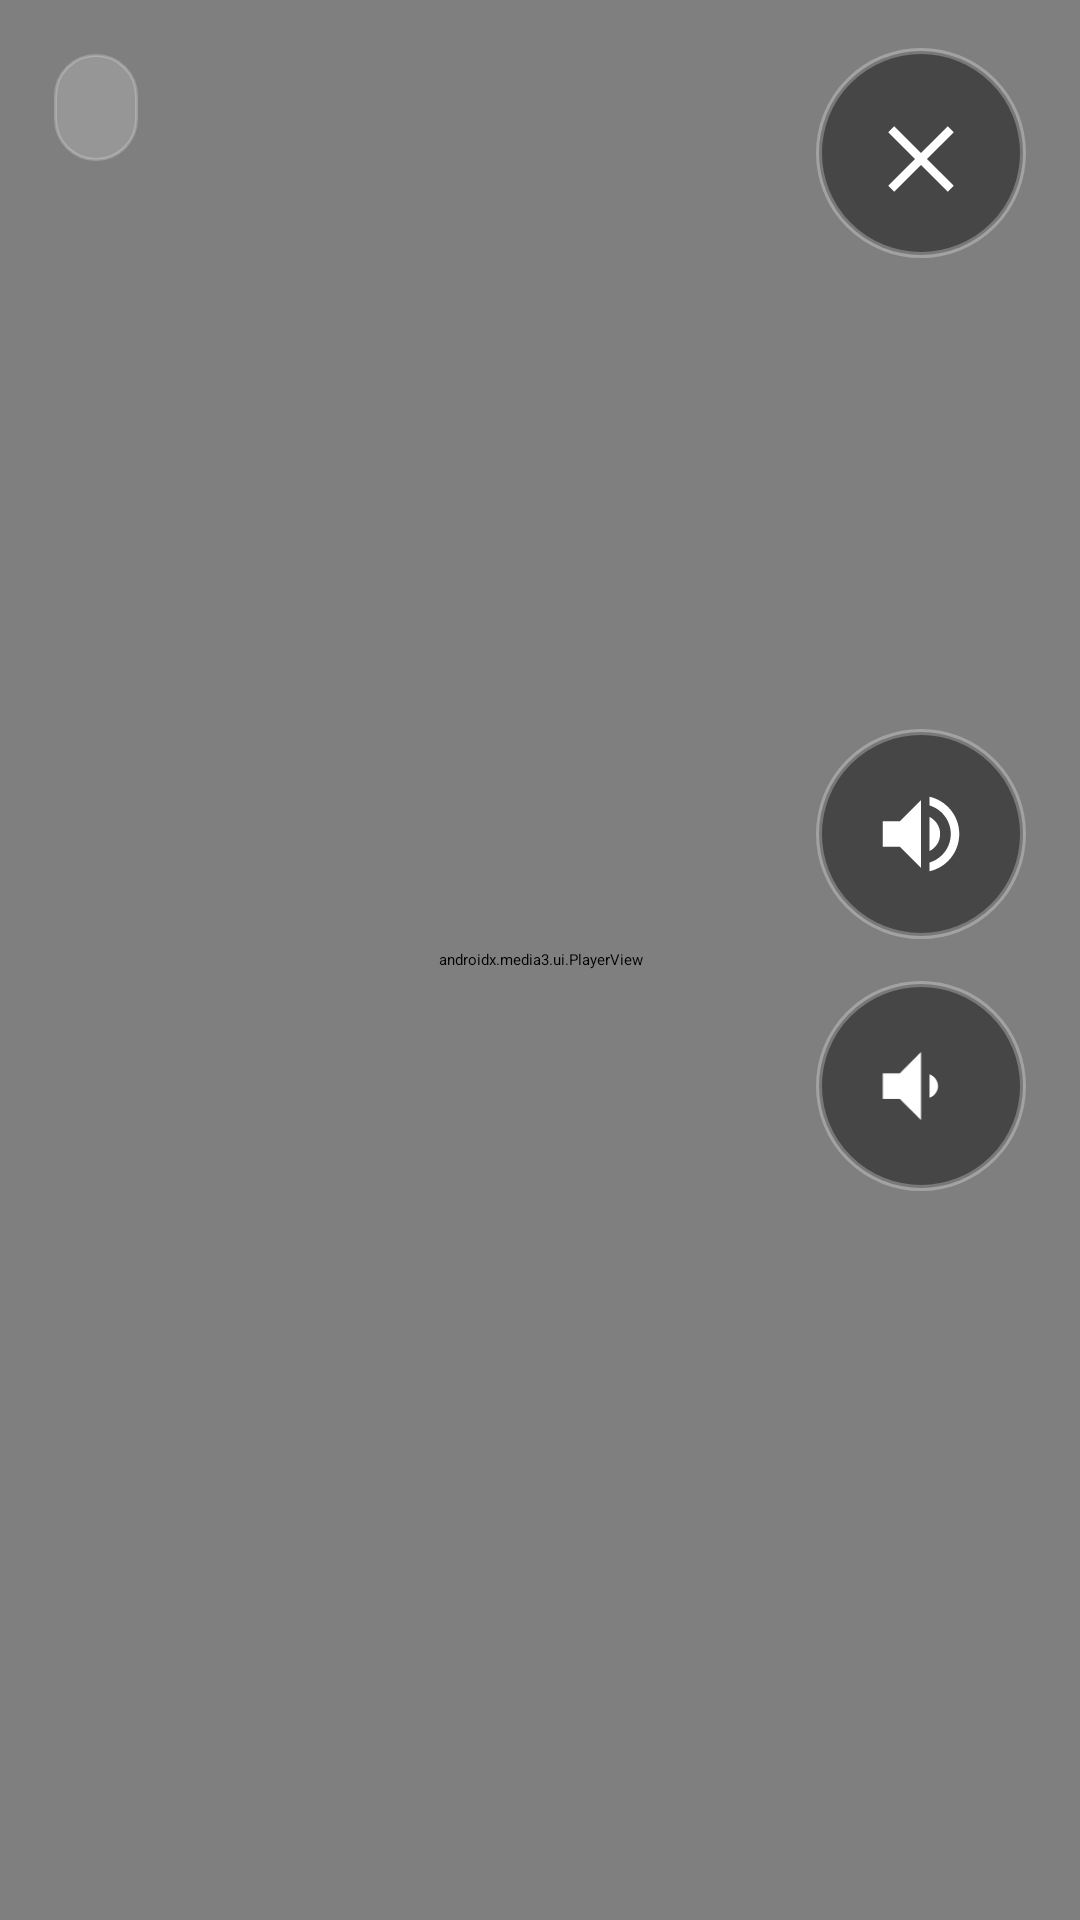

Named icons in this screenshot (1080px x 1920px) and their bounding boxes, Rect(x1, y1, x2, y2):
Volum mai tare: Rect(816, 729, 1026, 939)
Volum mai încet: Rect(816, 981, 1026, 1191)
Închide episodul: Rect(816, 48, 1026, 258)
